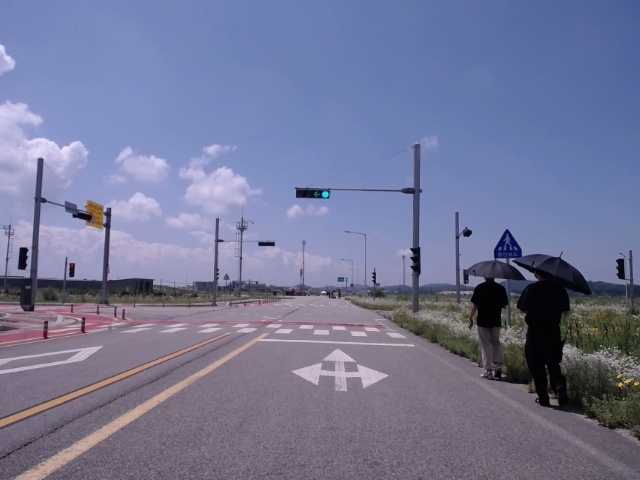all_green_4: (296, 186, 330, 201)
